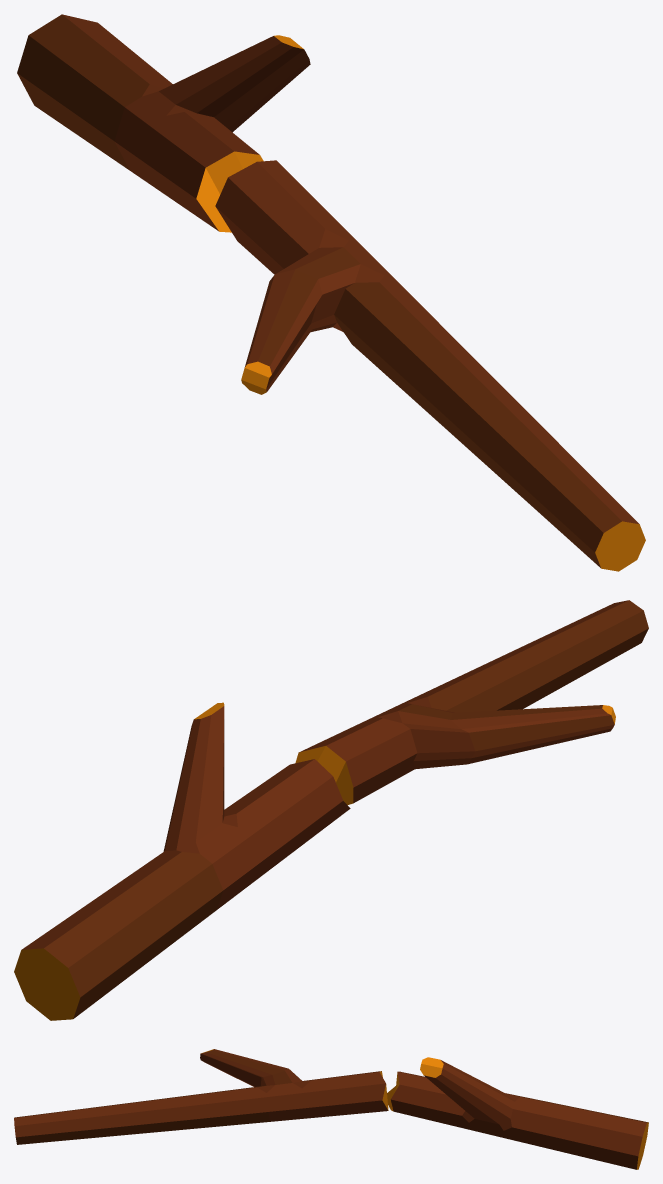
Rendered from Stick_46.fbx.
3 views of the same model, one above another, from view 1: azimuth 30°, elevation 25°; view 2: azimuth 150°, elevation 25°; view 3: azimuth 270°, elevation 25° (orthographic). The views are drawn at different scales.
Visible parts, largest first — view 1: Circle.427, Circle.425; view 2: Circle.425, Circle.427; view 3: Circle.427, Circle.425.
Part boxes in pixels (left/top/right/bottom): Circle.427: left=215, top=160, right=645, bottom=571; Circle.425: left=17, top=14, right=310, bottom=232; Circle.425: left=14, top=702, right=350, bottom=1020; Circle.427: left=295, top=600, right=648, bottom=805; Circle.427: left=14, top=1049, right=388, bottom=1144; Circle.425: left=387, top=1057, right=648, bottom=1169.
Bounding box in the file's own units: 11.25 × 8.1 × 41.39.
